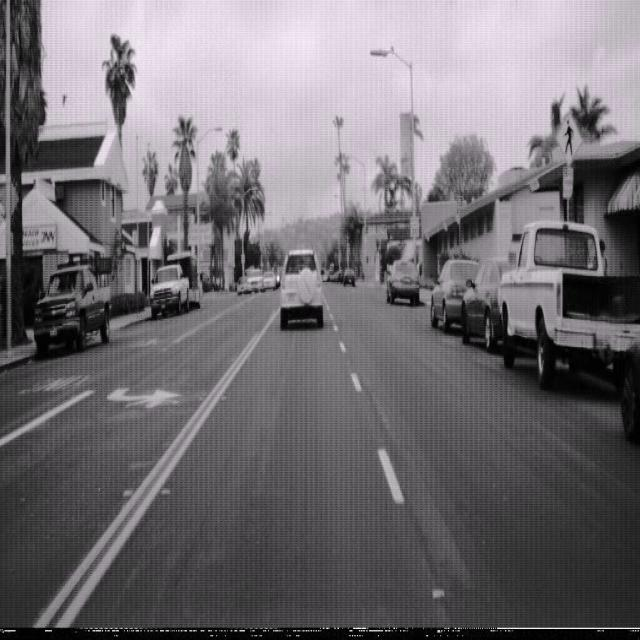pedestrianCrossing: (554, 109, 584, 164)
speedLimit30: (410, 214, 420, 238)
